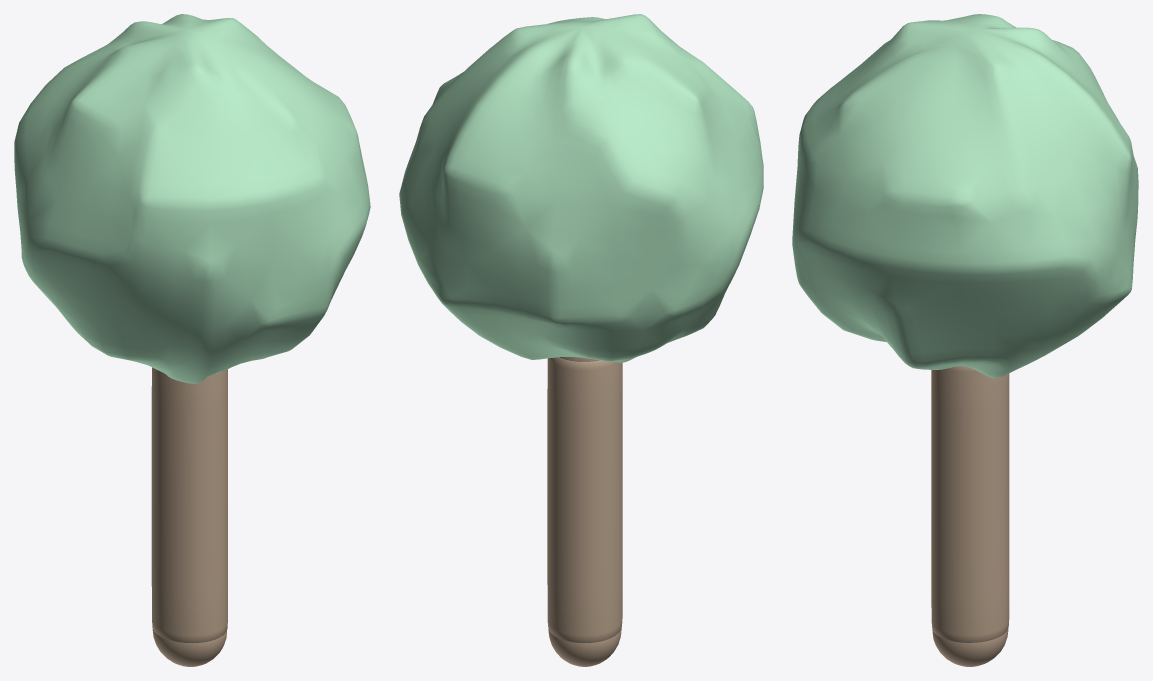
The model's file is PROP_TreeBig_v0.glb.
The picture shows the model from 3 angles, left to right: view 1: azimuth 30°, elevation 25°; view 2: azimuth 150°, elevation 25°; view 3: azimuth 270°, elevation 25°; orthographic projection.
Visible parts, largest first — view 1: PROP_TreeBig_v0; view 2: PROP_TreeBig_v0; view 3: PROP_TreeBig_v0.
Boxes of the visible parts, x1=… form: PROP_TreeBig_v0: x1=14, y1=14, x2=370, y2=666; PROP_TreeBig_v0: x1=399, y1=14, x2=763, y2=666; PROP_TreeBig_v0: x1=792, y1=14, x2=1138, y2=666.
Bounding box in the file's own units: 1.52 × 2.94 × 1.45.
